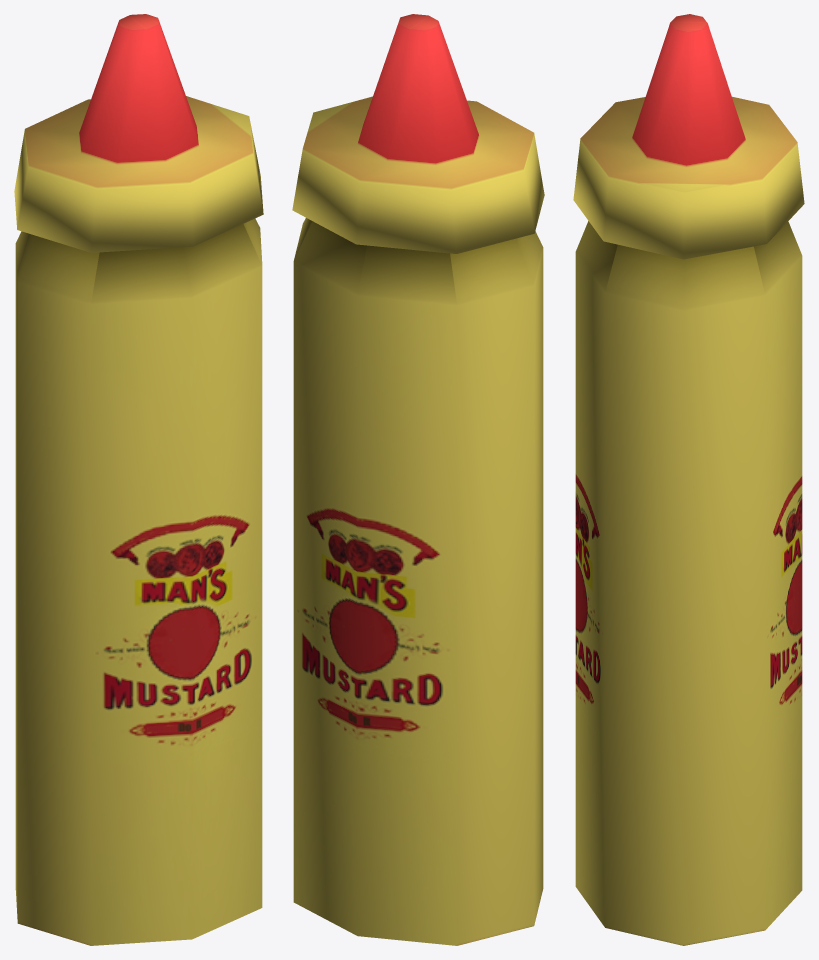
Rendered from Mustard02.fbx.
The picture shows the model from 3 angles, left to right: view 1: azimuth 30°, elevation 25°; view 2: azimuth 150°, elevation 25°; view 3: azimuth 270°, elevation 25°; orthographic projection.
Visible parts, largest first — view 1: Empty_Mesh; view 2: Empty_Mesh; view 3: Empty_Mesh.
Boxes of the visible parts, x1,y1,x2,y2 form: Empty_Mesh: [14, 14, 263, 945]; Empty_Mesh: [292, 14, 544, 945]; Empty_Mesh: [573, 14, 804, 945].
Bounding box in the file's own units: 10.15 × 35.61 × 8.62.
